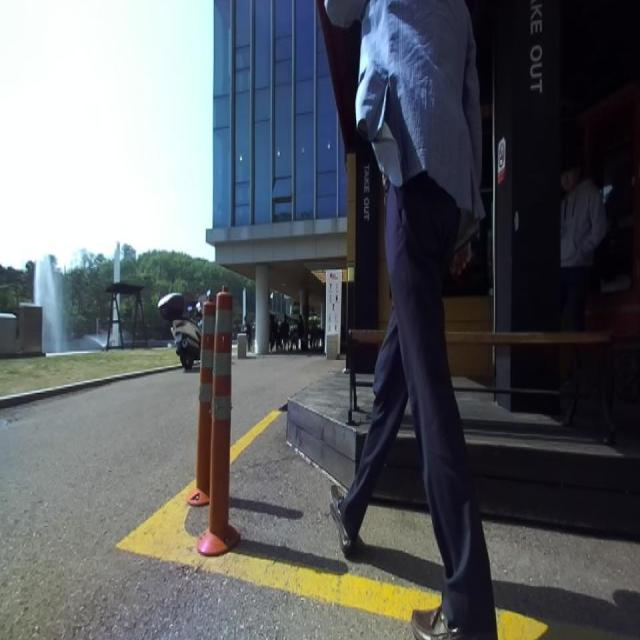sidewalk: (0, 355, 442, 639), (486, 520, 640, 639)
